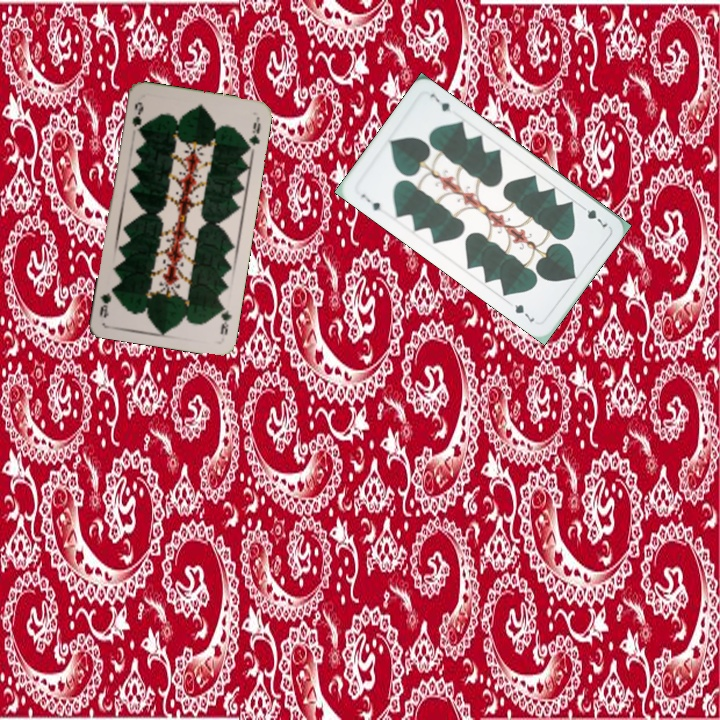G7: (576, 201, 610, 230), (357, 190, 384, 214)
G9: (216, 299, 235, 337), (128, 97, 146, 136)
